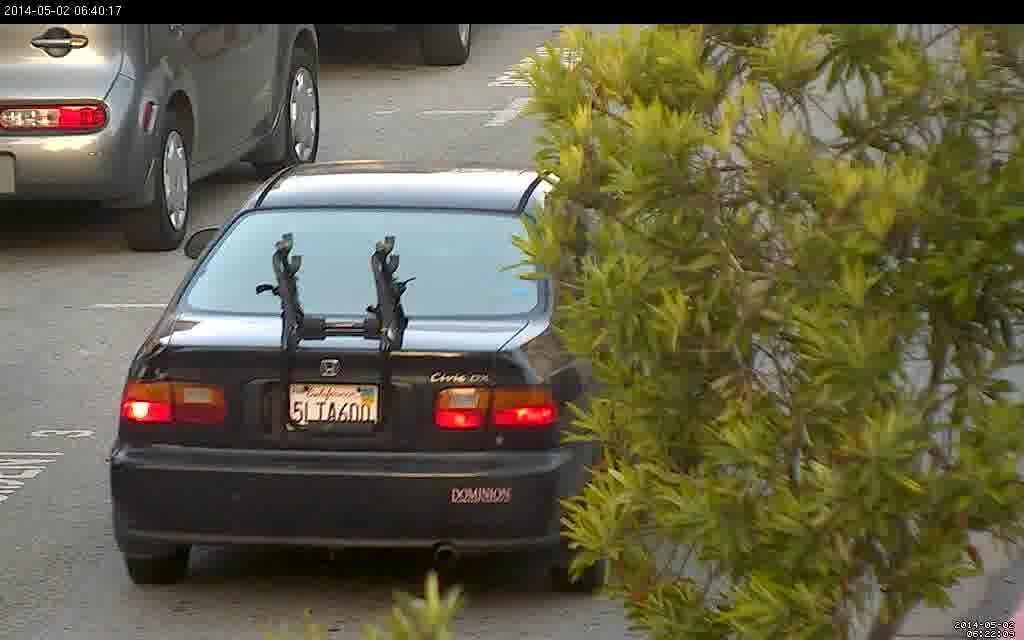placa de veiculo: (286, 356, 389, 445)
